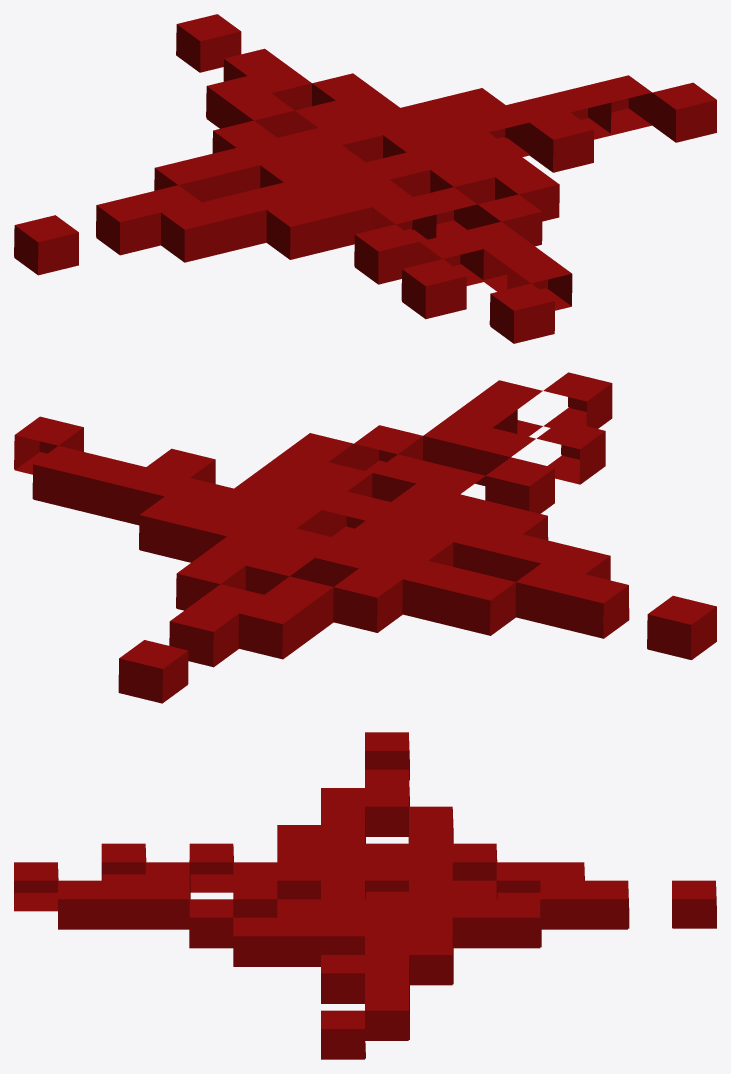
File: redstone6.obj
3 renders of one model, top to bottom at view 1: azimuth 30°, elevation 25°; view 2: azimuth 150°, elevation 25°; view 3: azimuth 270°, elevation 25°, orthographic. The views are drawn at different scales.
Parts seen in each view (by area): view 1: Plane, Cube; view 2: Plane, Cube; view 3: Plane, Cube.
Part boxes in pixels (x1,y1,x2,y2): Plane: [15, 14, 716, 310]; Cube: [14, 24, 716, 343]; Plane: [15, 372, 716, 668]; Cube: [14, 383, 716, 703]; Plane: [14, 732, 715, 1028]; Cube: [14, 741, 716, 1059].
Size of the model in its own units: 1 by 0.0481 by 1.
Materials: 2 (2 with a texture image).
